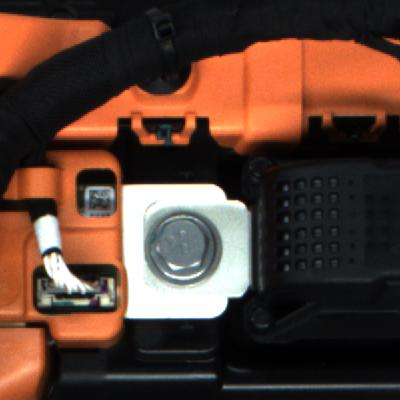nut_b: (136, 207, 235, 290)
